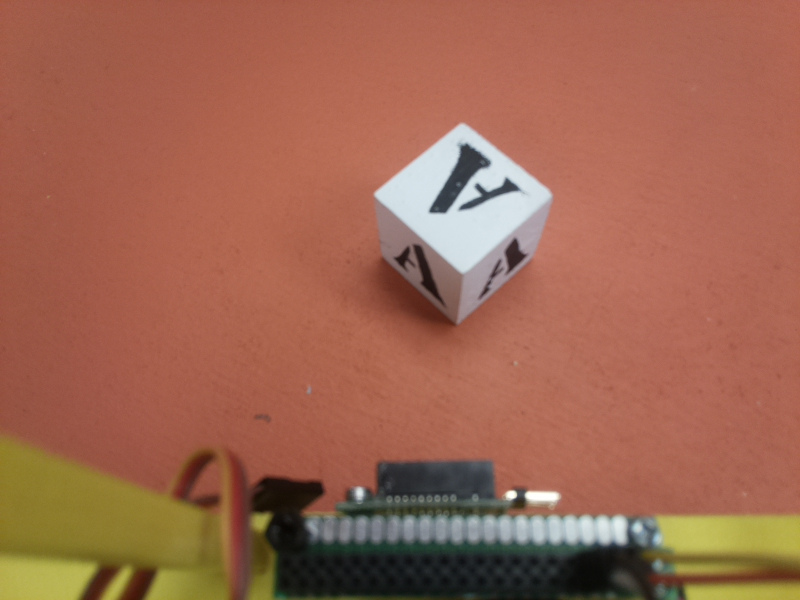blockA: (371, 123, 550, 335)
